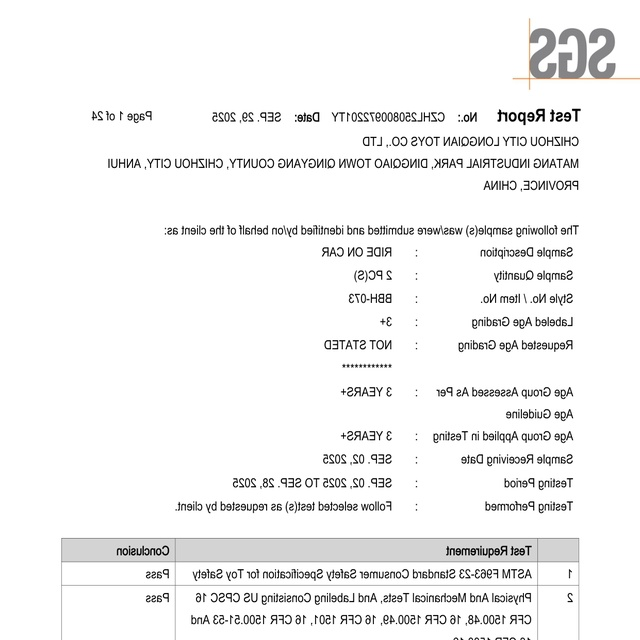sgs: (530, 27, 616, 79)
